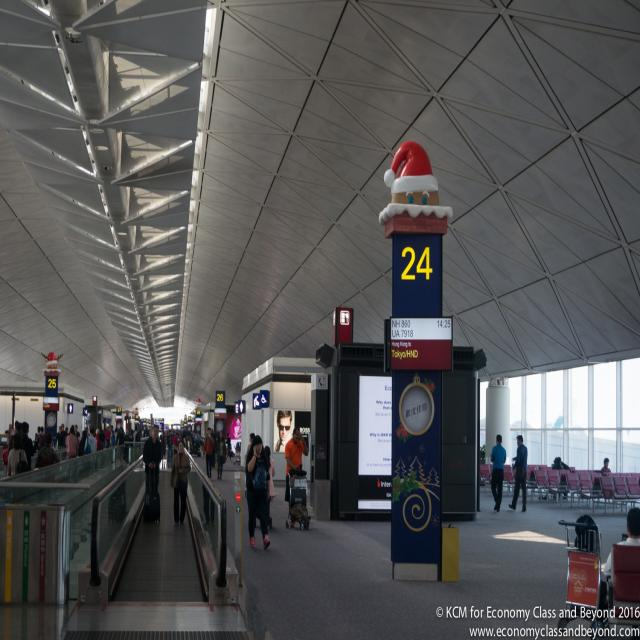body: (245, 434, 272, 552), (602, 506, 640, 576), (141, 423, 162, 525), (169, 439, 192, 528), (284, 427, 309, 503), (509, 432, 530, 514), (488, 429, 508, 514), (264, 445, 277, 531), (6, 432, 29, 478), (34, 432, 60, 469), (273, 408, 293, 452), (202, 426, 216, 481), (21, 421, 35, 473), (180, 427, 202, 456), (214, 430, 226, 482), (8, 422, 25, 458), (550, 455, 574, 476), (73, 430, 82, 481), (65, 426, 78, 460), (115, 425, 125, 464), (84, 426, 97, 456), (36, 426, 48, 454), (245, 432, 256, 460), (210, 428, 217, 470), (230, 416, 242, 440), (78, 429, 88, 456), (225, 432, 234, 461), (55, 425, 65, 451), (600, 456, 612, 476), (132, 425, 142, 448), (125, 425, 132, 457), (98, 427, 105, 458), (62, 425, 70, 448), (166, 428, 172, 456), (171, 431, 178, 453), (94, 428, 100, 452), (34, 425, 42, 443), (84, 426, 90, 450), (6, 424, 15, 439), (143, 424, 149, 446), (105, 426, 111, 448), (61, 425, 67, 446), (109, 429, 114, 453), (74, 424, 80, 443), (110, 430, 116, 447), (114, 427, 119, 446), (172, 427, 180, 433), (162, 458, 166, 470), (13, 421, 18, 429), (162, 431, 167, 437), (122, 427, 125, 434), (111, 424, 113, 429), (118, 428, 120, 430)
